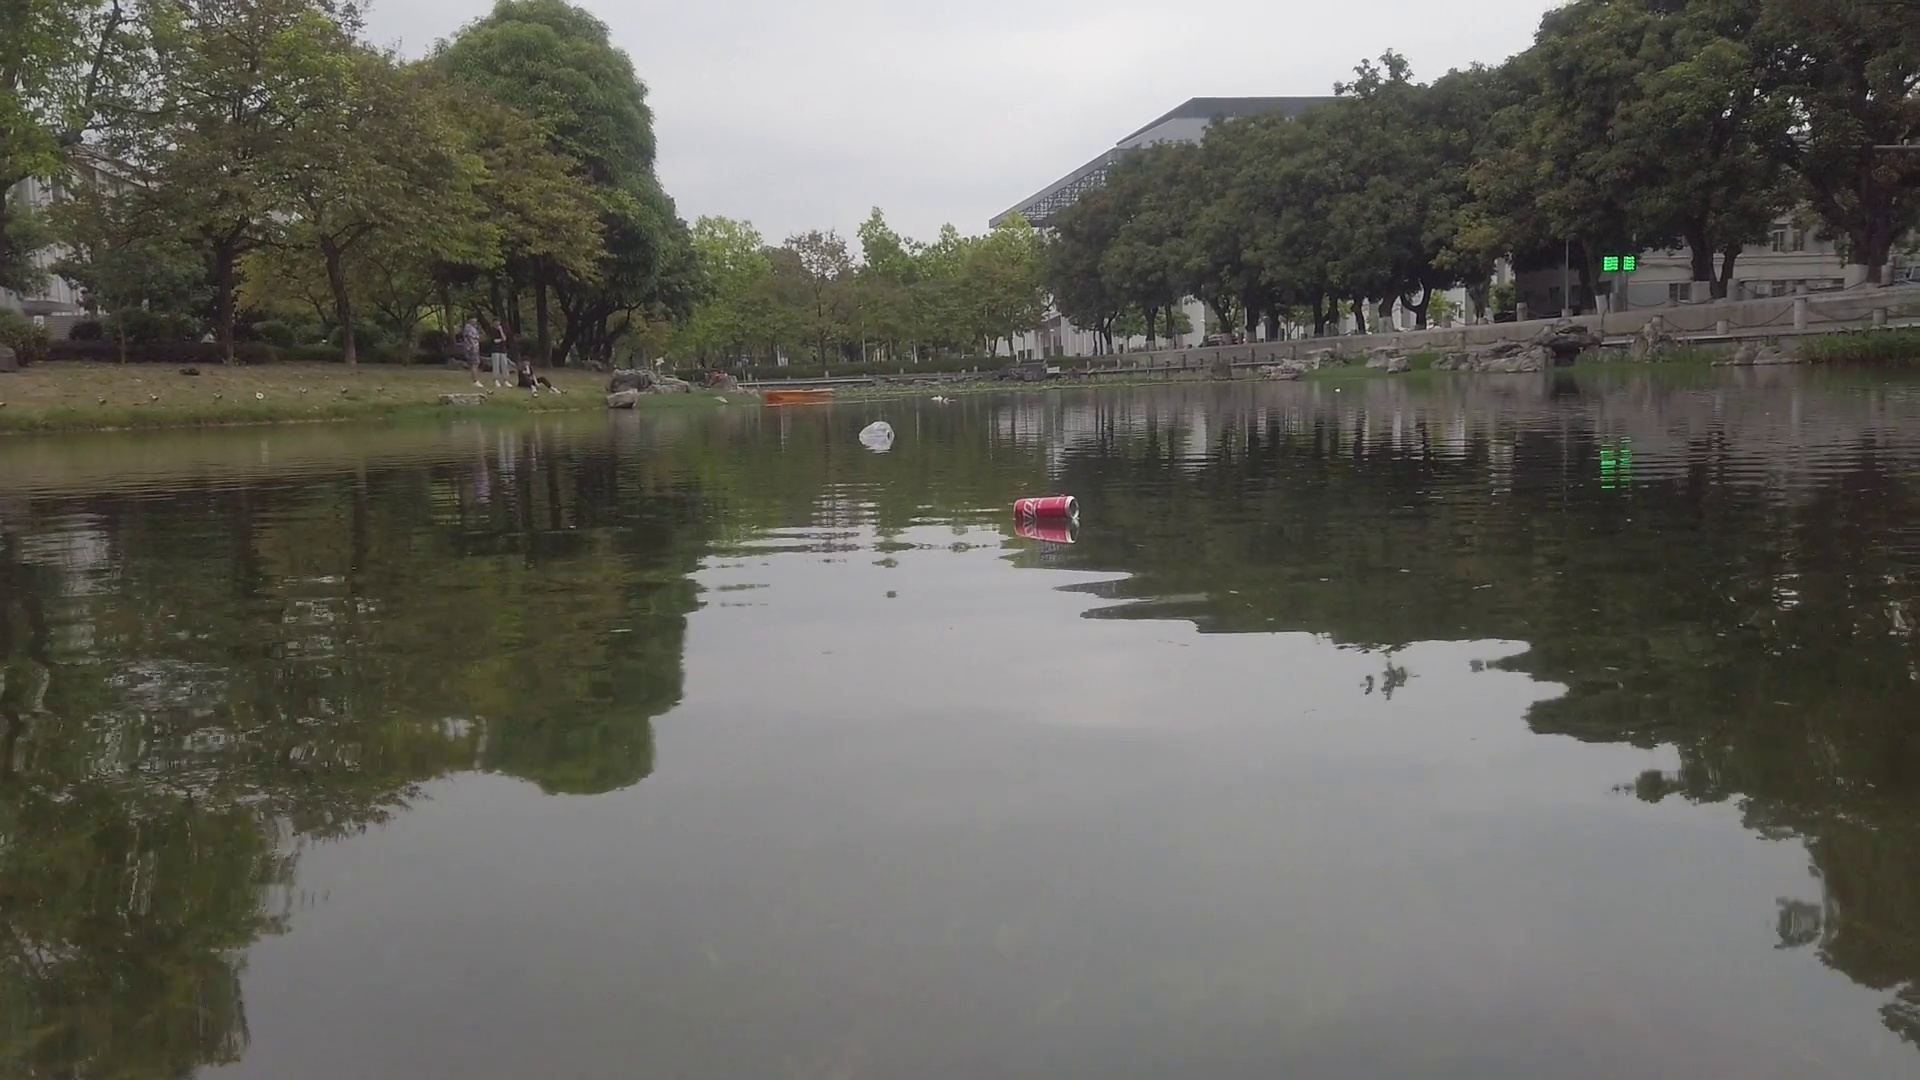bottle: (1015, 495, 1080, 520)
paper: (1331, 385, 1344, 396)
plastic: (858, 419, 895, 442), (928, 396, 945, 404)
